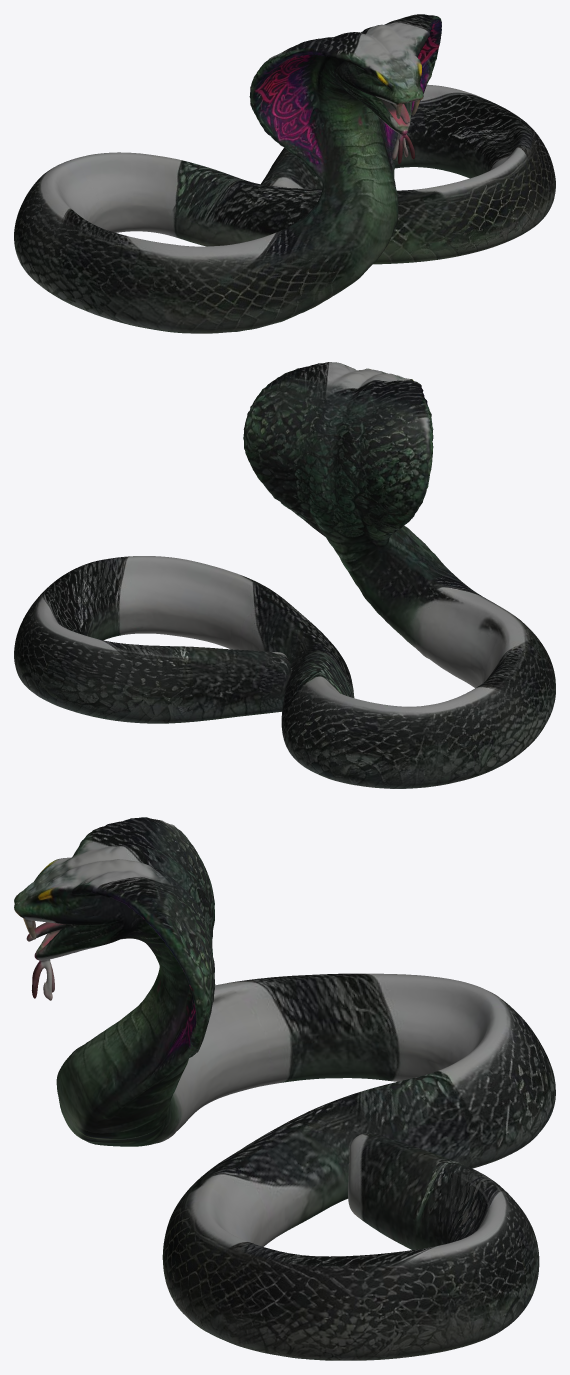
File: mandala.glb
3 renders of one model, top to bottom at view 1: azimuth 30°, elevation 25°; view 2: azimuth 150°, elevation 25°; view 3: azimuth 270°, elevation 25°, orthographic. The views are drawn at different scales.
Visible parts, largest first — view 1: tripo_node_48ff41a4-cbdf-4886-bfdc-78ca37b2c009; view 2: tripo_node_48ff41a4-cbdf-4886-bfdc-78ca37b2c009; view 3: tripo_node_48ff41a4-cbdf-4886-bfdc-78ca37b2c009.
Boxes of the visible parts, box(x1,y1,x2,y2) form: tripo_node_48ff41a4-cbdf-4886-bfdc-78ca37b2c009: box(14, 14, 555, 333); tripo_node_48ff41a4-cbdf-4886-bfdc-78ca37b2c009: box(14, 362, 555, 788); tripo_node_48ff41a4-cbdf-4886-bfdc-78ca37b2c009: box(14, 817, 555, 1360).
Size of the model in its own units: 0.9999 by 0.5126 by 0.7105.
Materials: 1 (1 with a texture image).
